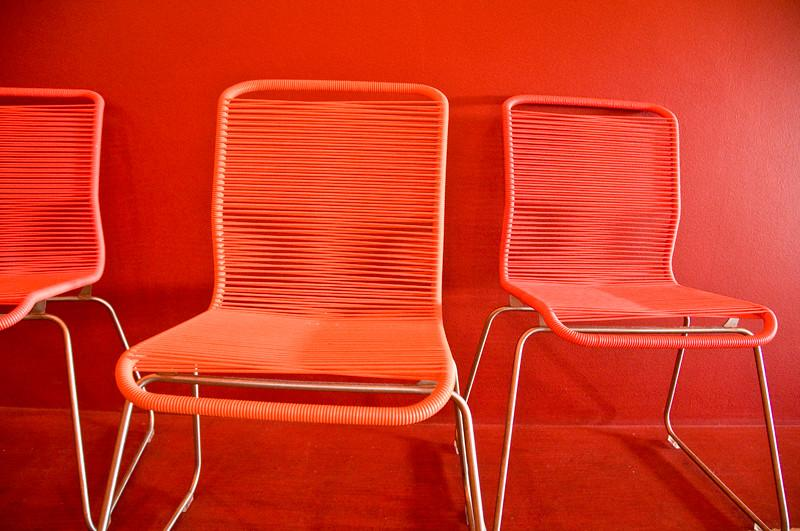chair: (98, 78, 487, 530), (458, 94, 791, 530), (1, 87, 155, 530)
